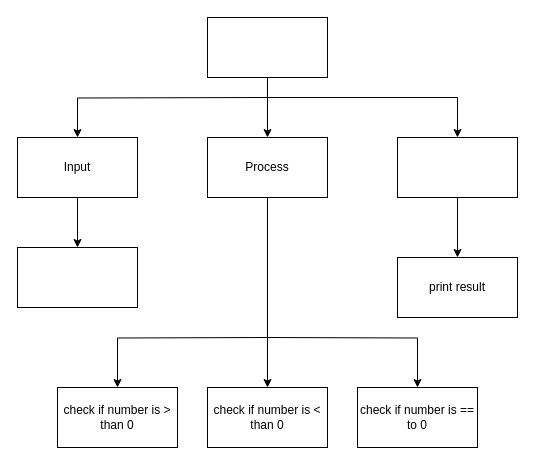
The diagram is 535 pixels wide and 465 high, and some of its shapes have lost their labels. Each missing label, with the centre of its shape:
get user_number: (77,277)
If Then: (267,47)
Output: (457,167)
